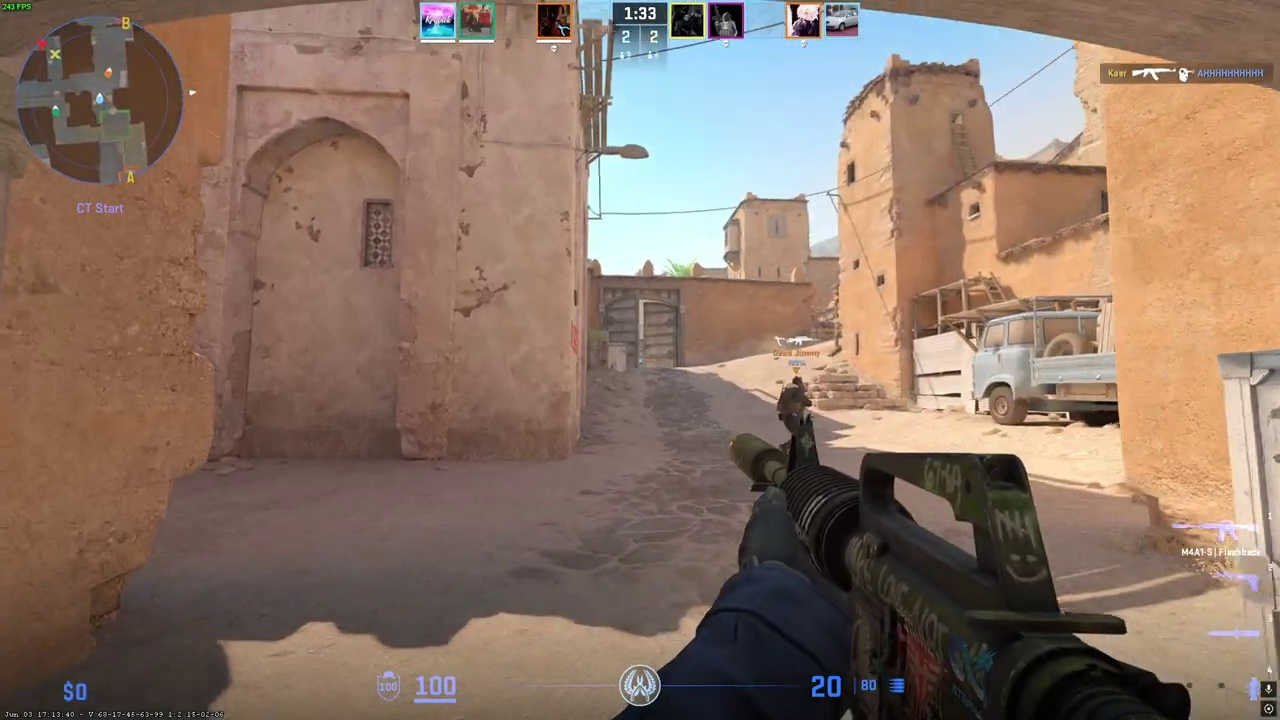CT: (779, 376, 812, 441)
